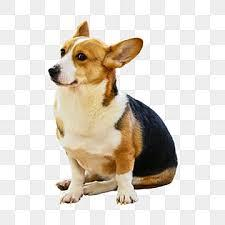non-mango: (47, 19, 178, 205)
